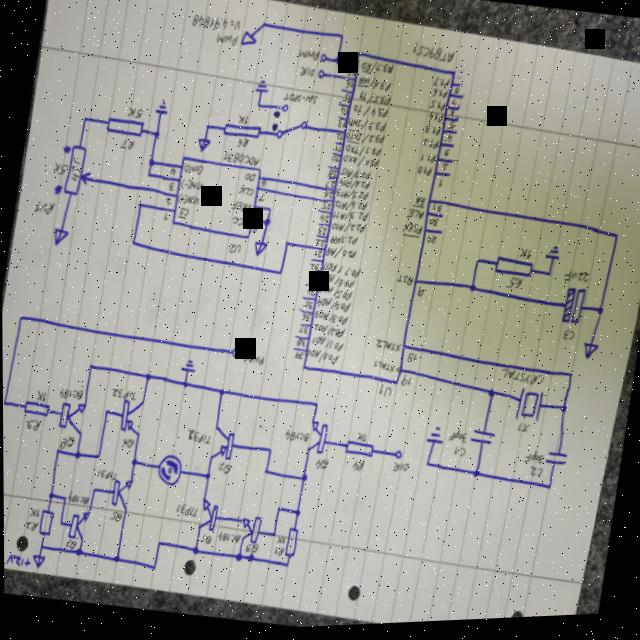capacitor: (559, 289, 590, 333), (469, 431, 496, 451), (545, 454, 569, 474)
ground: (424, 429, 445, 450), (179, 359, 198, 377), (544, 249, 562, 268), (154, 100, 170, 118), (255, 81, 271, 98)
junction: (595, 311, 606, 323), (471, 472, 481, 484), (486, 392, 496, 404), (112, 554, 121, 566), (144, 373, 153, 385), (559, 409, 568, 421), (299, 476, 308, 487), (46, 491, 55, 502), (152, 131, 161, 142), (130, 458, 138, 470), (234, 555, 243, 565), (74, 548, 83, 558), (181, 381, 189, 392), (545, 274, 553, 285), (217, 389, 225, 400), (81, 115, 89, 126), (148, 159, 156, 170), (283, 242, 291, 252), (263, 220, 270, 231), (334, 59, 341, 69), (468, 288, 475, 298), (545, 487, 552, 497), (87, 363, 94, 373), (338, 35, 345, 45), (567, 376, 574, 386), (283, 563, 290, 573), (17, 314, 24, 324), (129, 239, 136, 249), (74, 451, 81, 461), (294, 511, 301, 520), (204, 124, 211, 133), (424, 464, 431, 473), (313, 404, 320, 413), (204, 474, 211, 483), (262, 470, 269, 479), (155, 541, 162, 550), (613, 238, 620, 247), (150, 565, 157, 574), (266, 449, 273, 458), (94, 453, 101, 462), (277, 271, 284, 280), (192, 548, 199, 557), (137, 204, 144, 212), (146, 172, 153, 180), (256, 104, 262, 113), (475, 261, 481, 270), (103, 409, 109, 417), (2, 399, 7, 408), (261, 24, 267, 31), (38, 544, 44, 551), (54, 449, 60, 456), (271, 533, 276, 541), (276, 508, 281, 515), (91, 488, 96, 495), (266, 209, 271, 216), (58, 521, 63, 528), (63, 496, 67, 502)
resistor: (62, 144, 96, 199), (104, 114, 147, 142), (493, 259, 533, 285), (222, 123, 262, 144), (343, 441, 375, 463), (23, 400, 51, 419), (37, 509, 55, 537), (283, 530, 299, 561)
source: (580, 347, 599, 367), (51, 228, 70, 248), (196, 139, 212, 157), (252, 243, 268, 261), (30, 554, 46, 571)
switch: (276, 106, 311, 147)
terminal: (240, 32, 258, 51), (317, 72, 326, 83), (393, 453, 402, 464), (319, 56, 328, 67), (230, 350, 239, 361)
text: (191, 12, 241, 37), (411, 44, 455, 69), (499, 372, 545, 395), (347, 118, 387, 141), (321, 263, 361, 284), (222, 152, 262, 172), (316, 286, 354, 307), (345, 134, 385, 153), (357, 77, 393, 98), (315, 298, 351, 319), (341, 156, 380, 175), (304, 350, 340, 370), (359, 62, 395, 82), (352, 106, 388, 125), (310, 337, 344, 357), (332, 210, 369, 228), (313, 312, 348, 331), (320, 275, 356, 293), (344, 146, 382, 163), (358, 93, 392, 112), (325, 247, 357, 267), (311, 326, 346, 344), (331, 222, 366, 240), (334, 200, 369, 218), (339, 169, 372, 187), (282, 94, 318, 110), (336, 190, 369, 207), (338, 179, 371, 196), (185, 429, 213, 448), (283, 430, 309, 449), (329, 236, 359, 252), (374, 341, 402, 358), (562, 274, 590, 291), (214, 33, 239, 51), (179, 179, 205, 196), (58, 387, 84, 404), (216, 531, 242, 548), (110, 388, 137, 404), (174, 504, 199, 521), (5, 553, 31, 569), (66, 490, 90, 507), (33, 200, 55, 218), (401, 226, 423, 244), (372, 362, 396, 378), (522, 454, 544, 471), (230, 201, 253, 217), (297, 50, 320, 66), (69, 158, 83, 184), (447, 432, 468, 449), (182, 164, 204, 180), (177, 195, 200, 209), (243, 355, 265, 369), (125, 107, 144, 123), (504, 280, 523, 296), (96, 469, 117, 483), (58, 435, 75, 452), (298, 67, 317, 82), (428, 103, 447, 118), (427, 114, 445, 129), (395, 277, 414, 291), (406, 211, 425, 225), (25, 418, 42, 433), (52, 162, 69, 177), (391, 464, 409, 478), (433, 80, 451, 94), (424, 128, 442, 142), (421, 141, 439, 155), (313, 460, 329, 475), (231, 218, 249, 231), (419, 156, 437, 169), (377, 387, 392, 402), (238, 188, 255, 201), (516, 426, 531, 440), (528, 470, 543, 484), (200, 534, 214, 549), (412, 199, 426, 214), (216, 464, 231, 478), (452, 448, 466, 463), (432, 92, 449, 104), (120, 438, 134, 452), (351, 462, 365, 476), (236, 139, 250, 153), (518, 252, 532, 266), (562, 333, 576, 347), (177, 208, 190, 223), (24, 520, 39, 533), (228, 245, 242, 258), (417, 169, 432, 181), (120, 140, 135, 152), (245, 544, 259, 556), (399, 379, 411, 392), (406, 355, 418, 368), (109, 512, 122, 524), (237, 116, 249, 129), (28, 507, 40, 520), (35, 390, 47, 403), (65, 539, 77, 551), (308, 265, 320, 277), (426, 238, 437, 250), (273, 548, 284, 560), (314, 241, 326, 252), (347, 68, 357, 81), (416, 289, 425, 303), (356, 435, 367, 446), (428, 221, 439, 232), (432, 207, 443, 218), (319, 216, 330, 227), (320, 204, 331, 215), (244, 175, 256, 185), (308, 277, 318, 289), (445, 125, 456, 135), (296, 341, 307, 351), (302, 304, 313, 314), (306, 290, 316, 301), (316, 229, 327, 239), (323, 193, 334, 203), (325, 183, 336, 193), (341, 97, 351, 108), (253, 211, 262, 223), (337, 121, 346, 133), (276, 537, 286, 547), (301, 316, 311, 326), (328, 172, 338, 182), (294, 354, 305, 363), (340, 109, 349, 120), (345, 83, 354, 94), (169, 168, 177, 180), (298, 329, 308, 338), (258, 194, 265, 206), (314, 253, 323, 262), (331, 158, 340, 167), (335, 136, 344, 145), (169, 183, 176, 194), (437, 182, 444, 193), (443, 152, 450, 163), (446, 137, 453, 148), (163, 213, 170, 224), (251, 225, 258, 236), (164, 199, 172, 208), (441, 167, 449, 176), (334, 148, 342, 157), (454, 91, 461, 101), (451, 103, 458, 111), (449, 113, 455, 122), (261, 182, 267, 191)
transistor: (56, 401, 88, 438), (118, 400, 145, 438), (209, 427, 236, 465), (306, 422, 330, 459), (109, 478, 134, 513), (196, 498, 219, 535), (66, 510, 90, 544), (238, 516, 262, 548)
